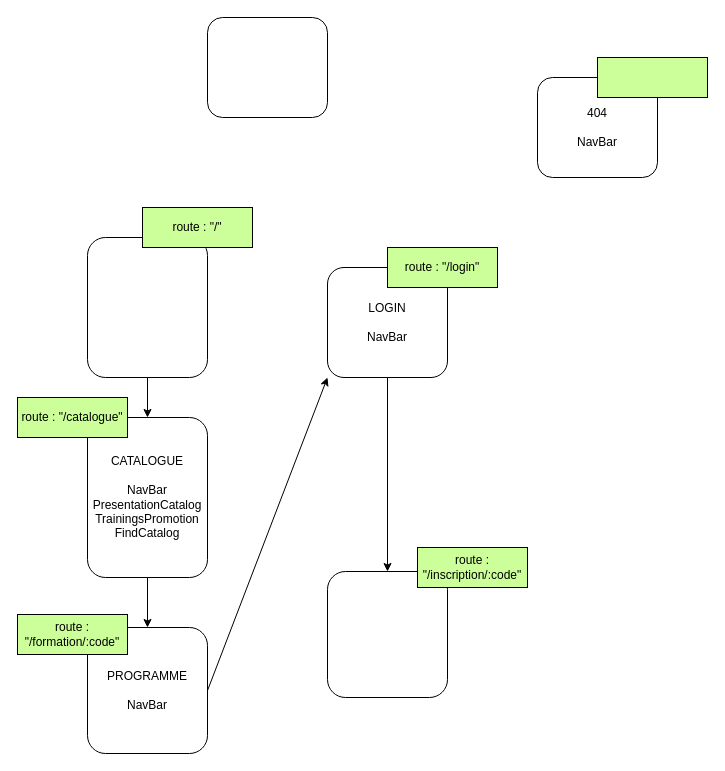
This 725x771 diagram has some shape labels left out. The box of each missing label's shape, as (x1, y1, x2, y2) in pixels:
APP router-view FooterSection: (206, 16, 328, 118)
HOMEVIEW HeaderSection (+NavBar) ProcessDetails AddedValues: (86, 236, 208, 378)
INSCRIPTION: (326, 570, 448, 698)
route : "/:pathMatch(.*)": (596, 56, 708, 98)
